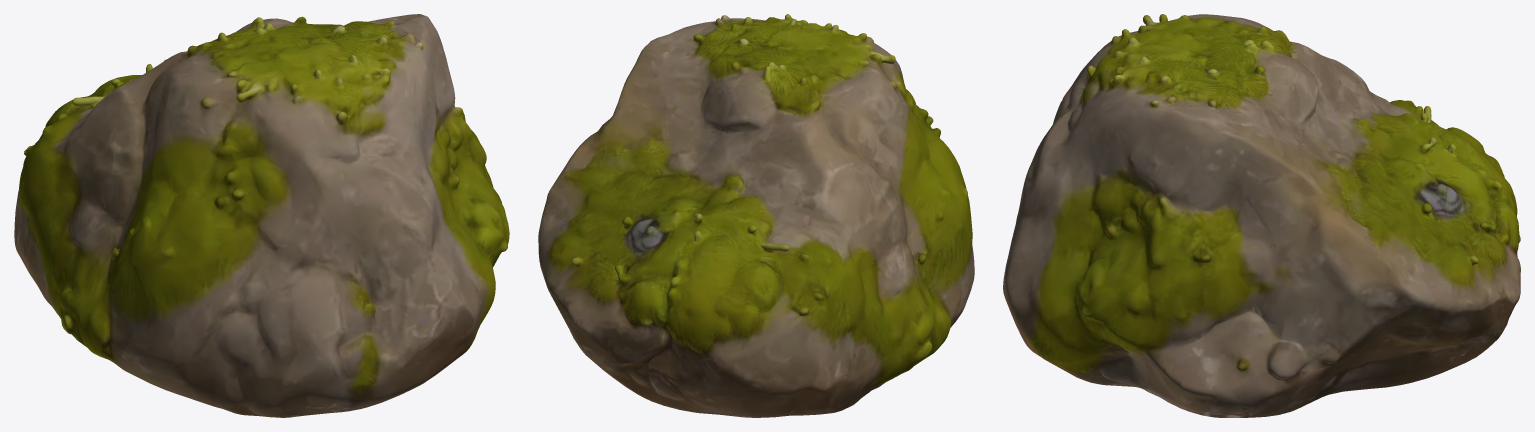
Rendered from boulder_large.glb.
3 views of the same model, side by side, from view 1: azimuth 30°, elevation 25°; view 2: azimuth 150°, elevation 25°; view 3: azimuth 270°, elevation 25° (orthographic). The views are drawn at different scales.
Parts seen in each view (by area): view 1: tripo_node_a0c5dcd1-afcb-41d7-a118-b7d7651fcb5c; view 2: tripo_node_a0c5dcd1-afcb-41d7-a118-b7d7651fcb5c; view 3: tripo_node_a0c5dcd1-afcb-41d7-a118-b7d7651fcb5c.
Boxes of the visible parts, left/top/right/bottom form: tripo_node_a0c5dcd1-afcb-41d7-a118-b7d7651fcb5c: left=14, top=14, right=509, bottom=417; tripo_node_a0c5dcd1-afcb-41d7-a118-b7d7651fcb5c: left=538, top=14, right=974, bottom=417; tripo_node_a0c5dcd1-afcb-41d7-a118-b7d7651fcb5c: left=1003, top=14, right=1520, bottom=417.
Size of the model in its own units: 0.8122 by 0.644 by 0.9434.
1 material, 1 textured.
